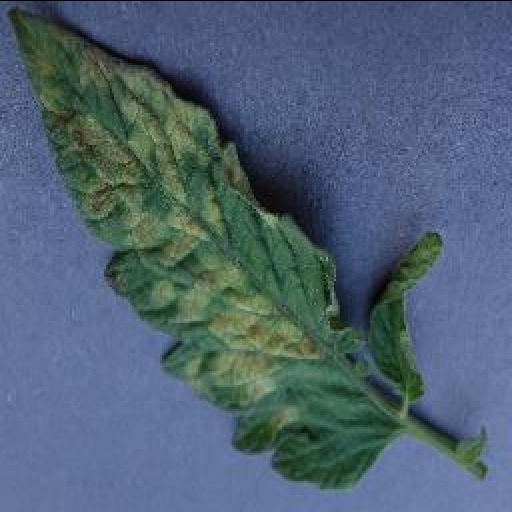disease_tomato: (6, 10, 444, 484)
